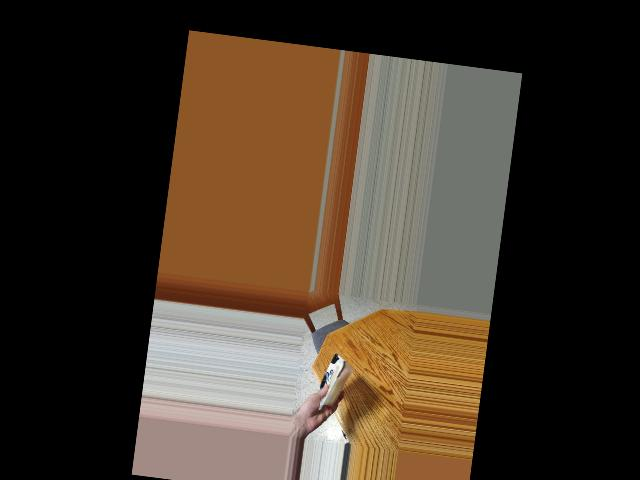cheese: (307, 353, 356, 408)
